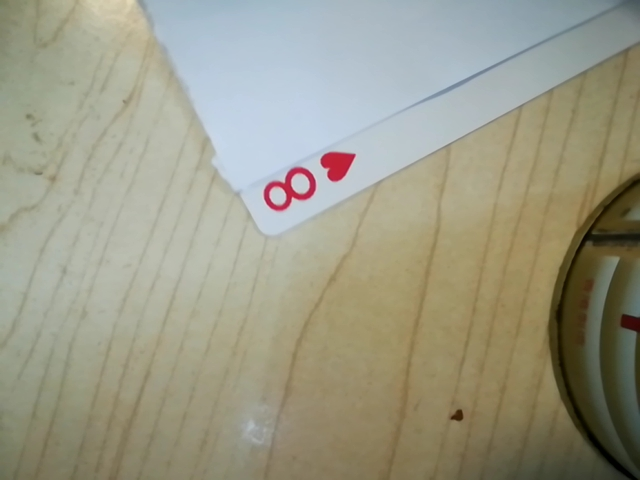hx 8: (254, 147, 360, 221)
